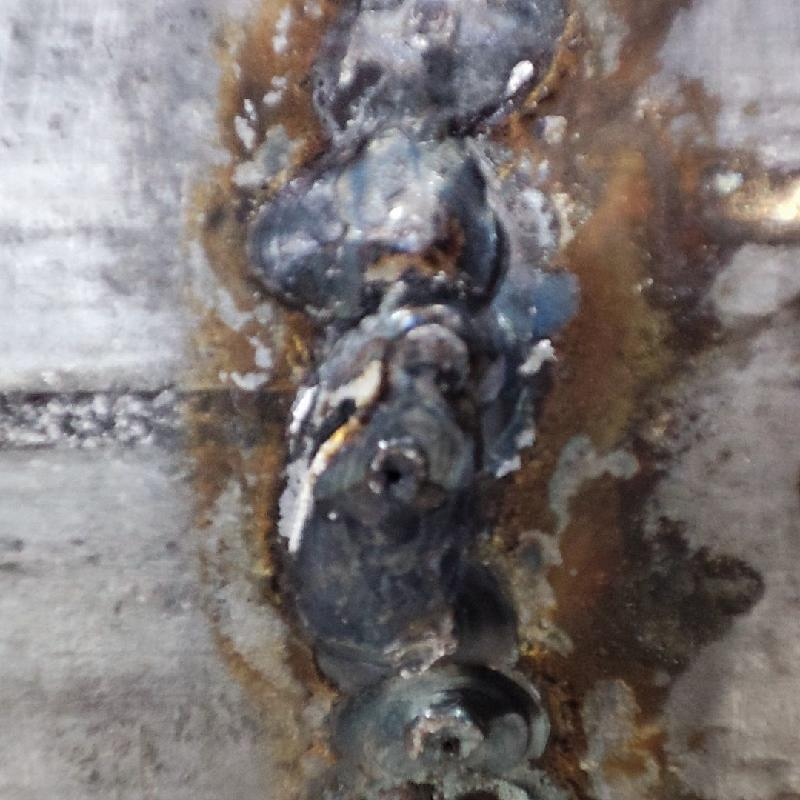Surface_pores: (365, 439, 433, 505)
wrong_size: (258, 3, 567, 799)
